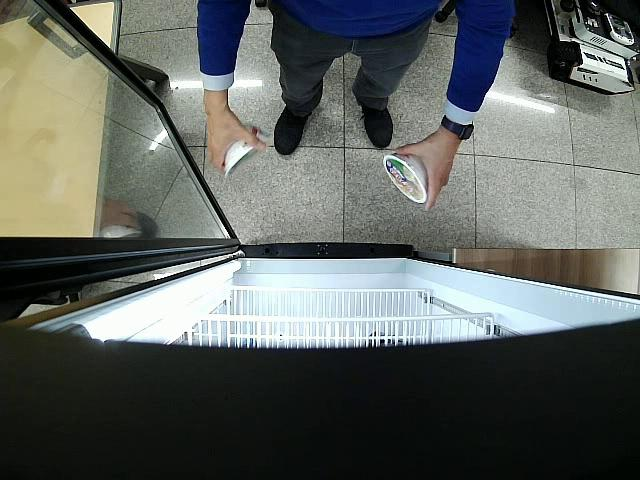00_hand: (395, 132, 453, 212), (203, 104, 267, 174)
09_yukGaeJang: (224, 124, 272, 177), (383, 155, 427, 204)
